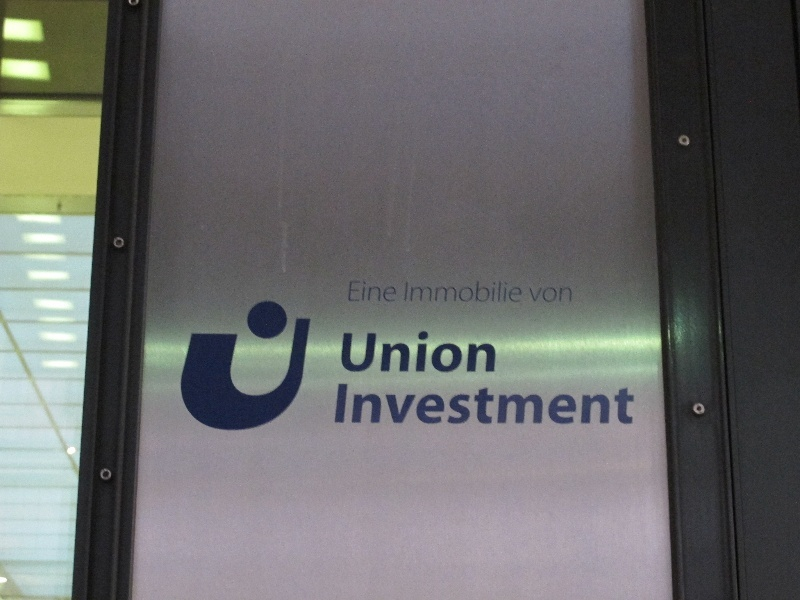text: (481, 327, 497, 374), (353, 327, 368, 374), (369, 327, 384, 374), (385, 327, 400, 374), (401, 327, 416, 374), (417, 327, 432, 374), (433, 327, 448, 374), (449, 327, 464, 374), (465, 327, 480, 374), (353, 384, 368, 426), (369, 384, 384, 426), (385, 384, 400, 426), (401, 384, 416, 426), (417, 384, 432, 426), (433, 384, 448, 426), (449, 384, 464, 426), (465, 384, 480, 426), (481, 384, 496, 426), (497, 384, 512, 426), (513, 384, 528, 426), (529, 384, 544, 426), (545, 384, 560, 426), (561, 384, 576, 426), (577, 384, 592, 426), (593, 384, 608, 426), (609, 384, 624, 426), (339, 384, 352, 426), (625, 384, 635, 426), (344, 327, 352, 374), (353, 280, 368, 304), (369, 280, 384, 304), (417, 281, 432, 304), (433, 281, 448, 304), (449, 281, 464, 304), (465, 281, 480, 304), (481, 281, 496, 304), (497, 281, 512, 304), (385, 280, 397, 304), (513, 281, 525, 304), (529, 287, 544, 303), (545, 287, 560, 303), (406, 281, 416, 304), (561, 287, 572, 303), (350, 280, 352, 304)
